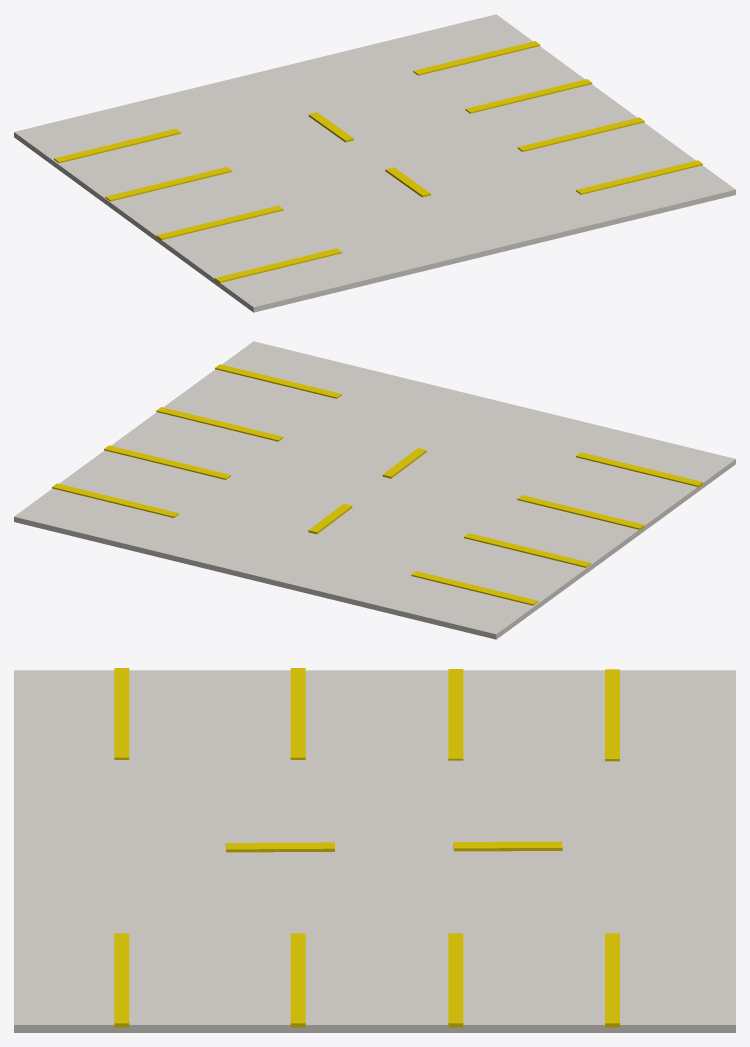
The model's file is ParkPlace.fbx.
3 views of the same model, one above another, from view 1: azimuth 30°, elevation 25°; view 2: azimuth 150°, elevation 25°; view 3: azimuth 270°, elevation 25° (orthographic). The views are drawn at different scales.
Parts seen in each view (by area): view 1: Cube, Cube.002, Cube.006, Cube.005, Cube.004, Cube.003, Cube.007, Cube.001, Cube.008; view 2: Cube, Cube.002, Cube.006, Cube.008, Cube.001, Cube.003, Cube.007, Cube.004, Cube.005; view 3: Cube, Cube.001, Cube.003, Cube.004, Cube.002, Cube.006, Cube.007, Cube.005, Cube.008, Cube.010, Cube.009.
Boxes of the visible parts, bbox=[...] form: Cube: bbox=[14, 14, 735, 312]; Cube.002: bbox=[156, 205, 283, 241]; Cube.006: bbox=[215, 248, 341, 284]; Cube.005: bbox=[413, 41, 540, 75]; Cube.004: bbox=[465, 79, 592, 113]; Cube.003: bbox=[517, 117, 644, 151]; Cube.007: bbox=[105, 167, 232, 201]; Cube.001: bbox=[576, 160, 702, 194]; Cube.008: bbox=[54, 128, 180, 163]; Cube: bbox=[14, 341, 735, 639]; Cube.002: bbox=[517, 495, 644, 530]; Cube.006: bbox=[576, 452, 702, 488]; Cube.008: bbox=[411, 571, 538, 605]; Cube.001: bbox=[215, 364, 341, 398]; Cube.003: bbox=[156, 407, 283, 441]; Cube.007: bbox=[464, 533, 590, 567]; Cube.004: bbox=[104, 445, 230, 479]; Cube.005: bbox=[52, 483, 178, 517]; Cube: bbox=[14, 670, 735, 1032]; Cube.001: bbox=[114, 933, 129, 1027]; Cube.003: bbox=[290, 933, 305, 1027]; Cube.004: bbox=[448, 933, 463, 1027]; Cube.002: bbox=[290, 668, 305, 759]; Cube.006: bbox=[114, 668, 129, 759]; Cube.007: bbox=[448, 669, 463, 760]; Cube.005: bbox=[605, 933, 619, 1027]; Cube.008: bbox=[605, 669, 619, 761]; Cube.010: bbox=[453, 841, 562, 851]; Cube.009: bbox=[225, 842, 334, 852].
Bounding box in the file's own units: 1275 × 18.55 × 1096.
